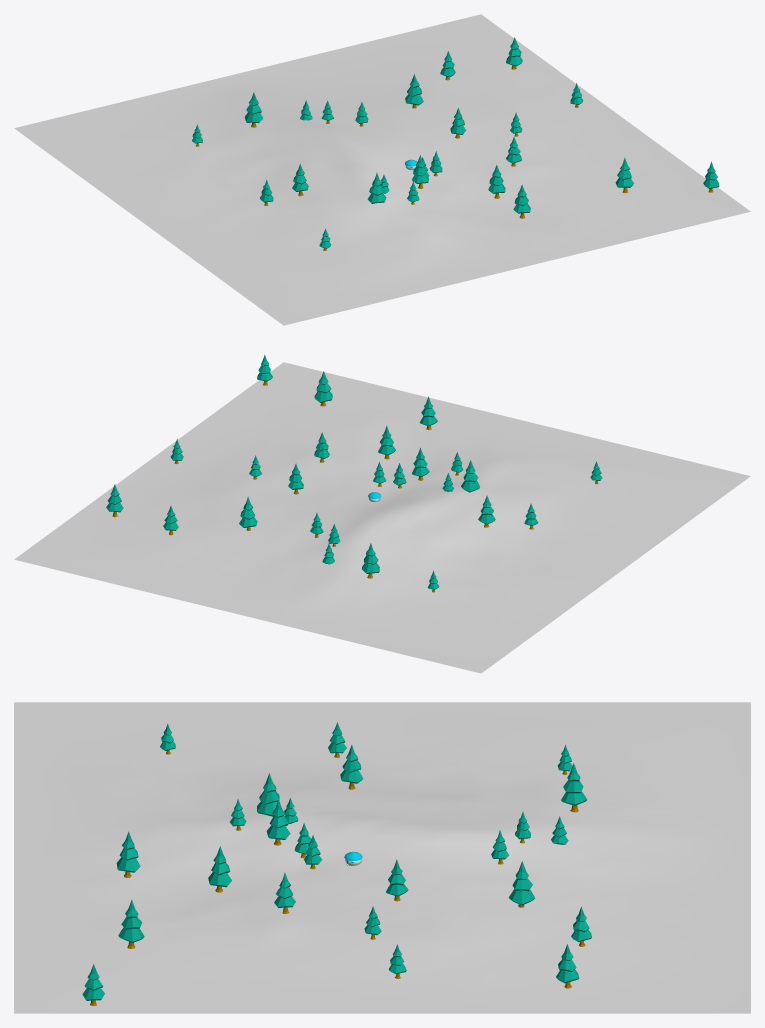
The model's file is north pole 01.gltf.
The picture shows the model from 3 angles, top to bottom: view 1: azimuth 30°, elevation 25°; view 2: azimuth 150°, elevation 25°; view 3: azimuth 270°, elevation 25°; orthographic projection. The views are drawn at different scales.
Parts seen in each view (by area): view 1: Landscape; view 2: Landscape; view 3: Landscape, Tree_Spruce_tiny_01-Mat.1 (×9).
Boxes of the visible parts, box(x1,y1,x2,y2) form: Landscape: box(14, 14, 750, 325); Landscape: box(14, 362, 750, 673); Landscape: box(14, 702, 750, 1013); Tree_Spruce_tiny_01-Mat.1 (×9): box(116, 745, 587, 983).
Size of the model in its own units: 1000 by 88.74 by 1000.
